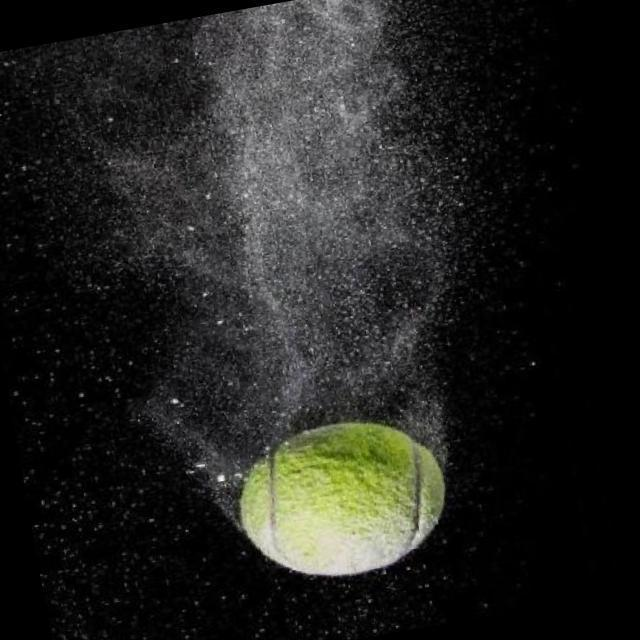-: (182, 395, 484, 608)
